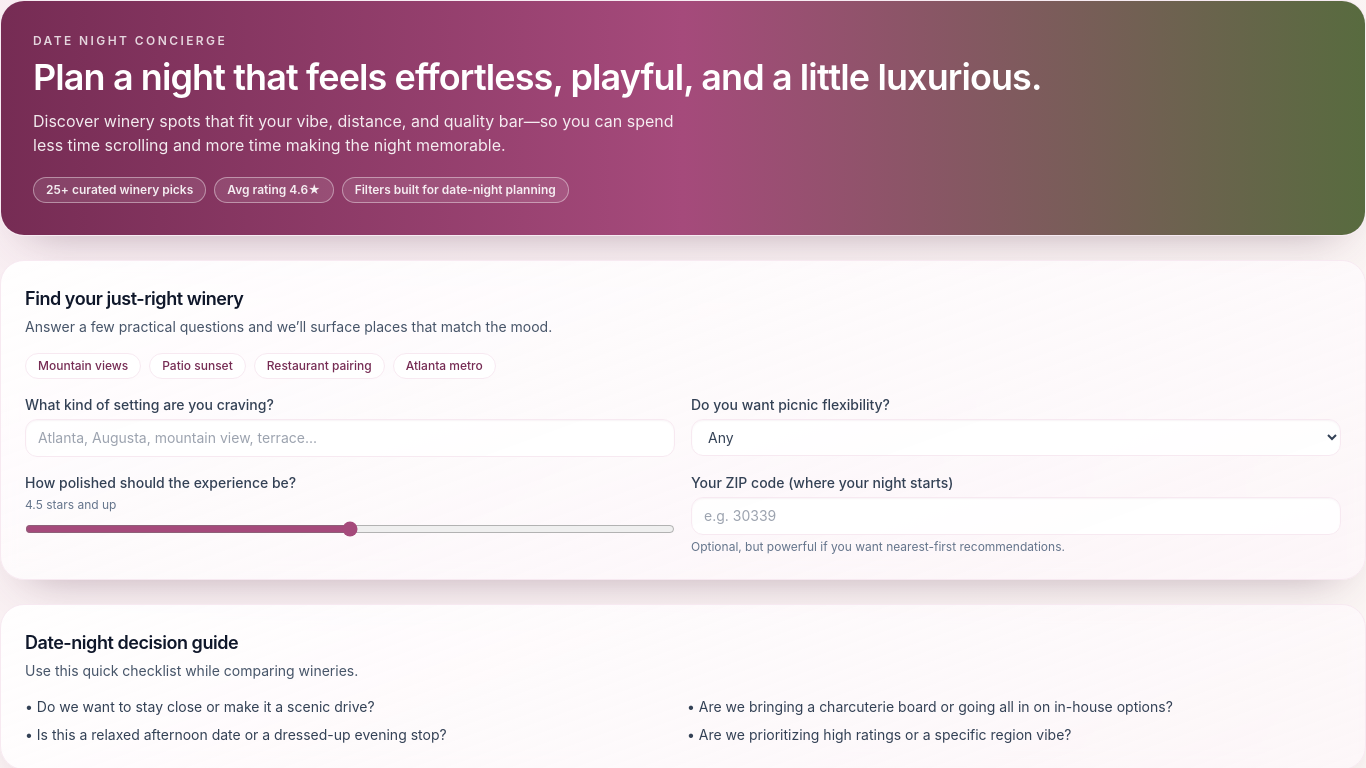
Test case: HomePage › applies a mood preset to the setting search field
The width and height of the screenshot is (1366, 768).
Click the button "Mountain views". click: (83, 366)
box: [25,353,141,379]
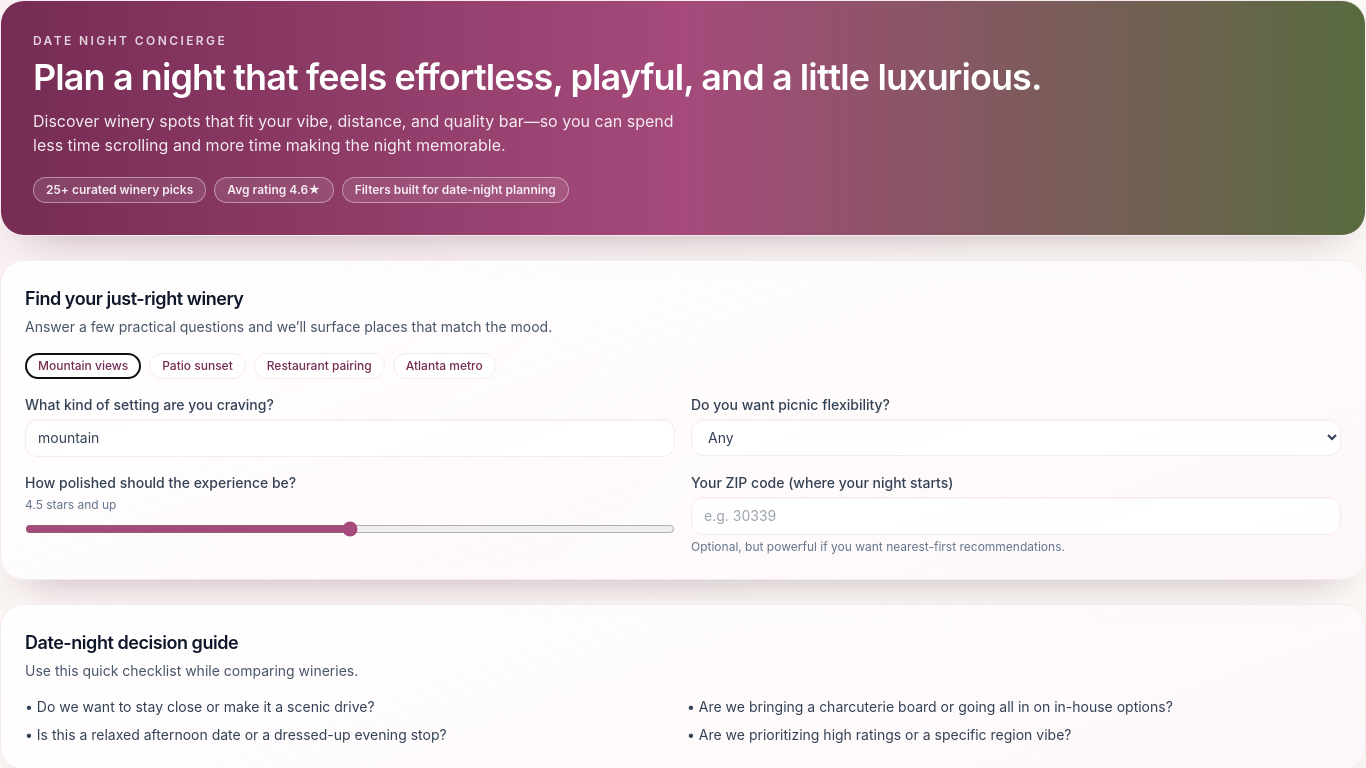
Check: the field labelled "What kind of setting are you craving?" holds "mountain", box [25,419,675,457]
